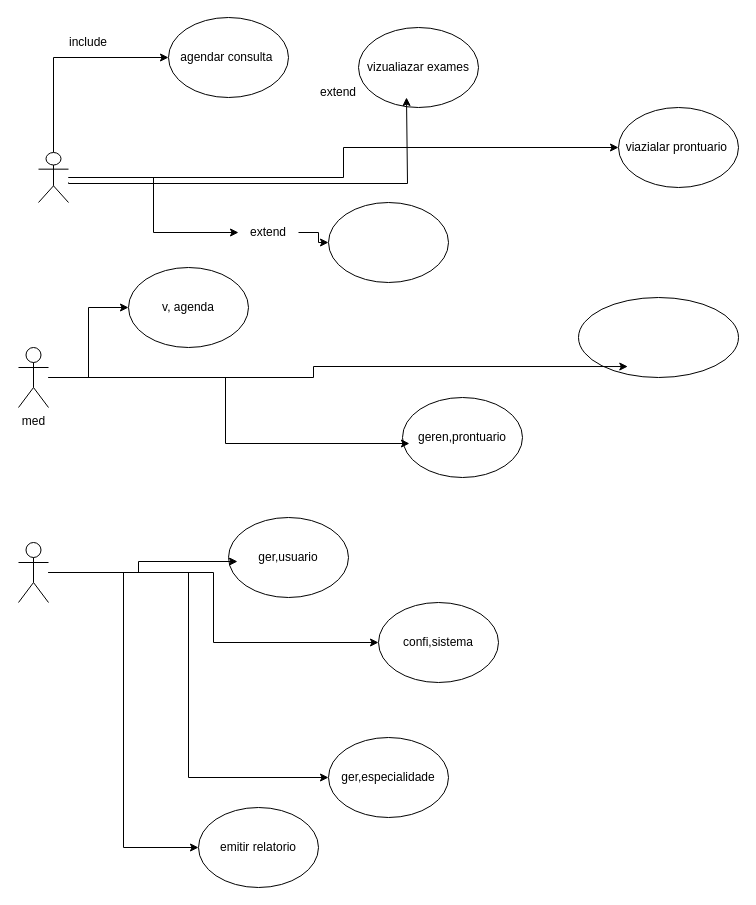
The diagram is 756 pixels wide and 905 high, and some of its shapes have lost their labels. Each missing label, with the centre of its shape:
admin: point 33,572
paciente: point 53,177
registra, atendime: point 658,337
vizualizar consulta: point 388,242
